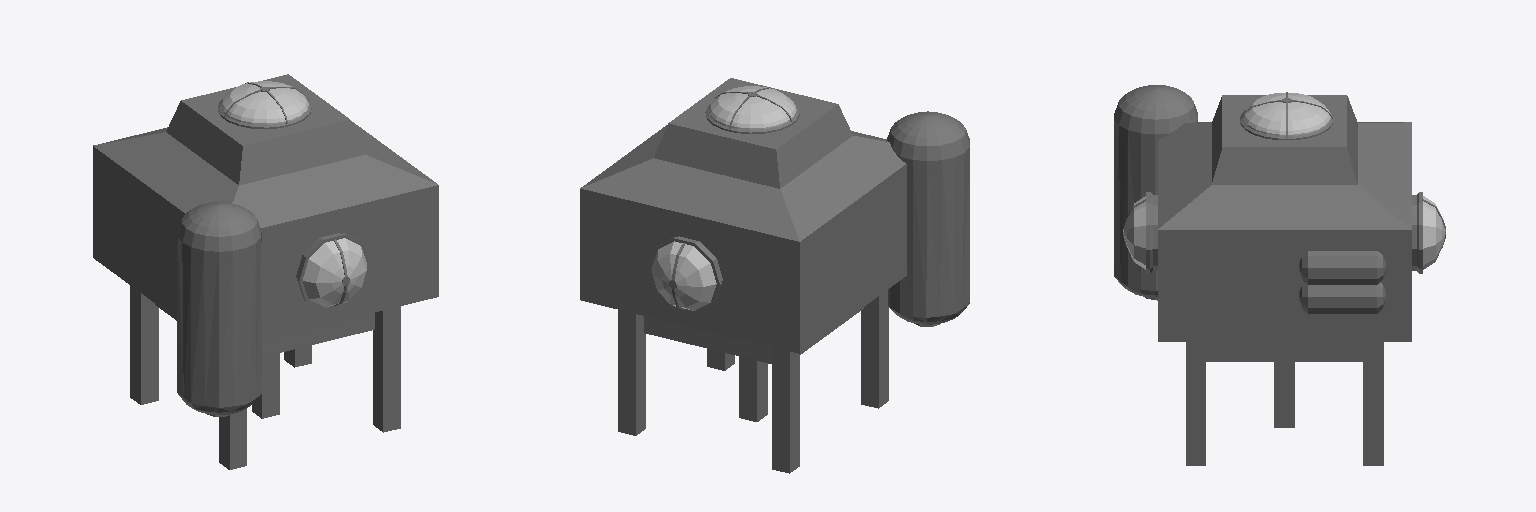
File: underwater_base.obj
3 views of the same model, side by side, from view 1: azimuth 30°, elevation 25°; view 2: azimuth 150°, elevation 25°; view 3: azimuth 270°, elevation 25° (orthographic).
Parts seen in each view (by area): view 1: underwaterbase, glass; view 2: underwaterbase, glass; view 3: underwaterbase, glass.
Part boxes in pixels (x1,y1,x2,y2): underwaterbase: (93,74,438,469); glass: (220,81,366,307); underwaterbase: (580,78,969,473); glass: (652,86,796,310); underwaterbase: (1114,85,1445,465); glass: (1124,93,1444,269).
Size of the model in its own units: 16.13 by 18.44 by 17.16.